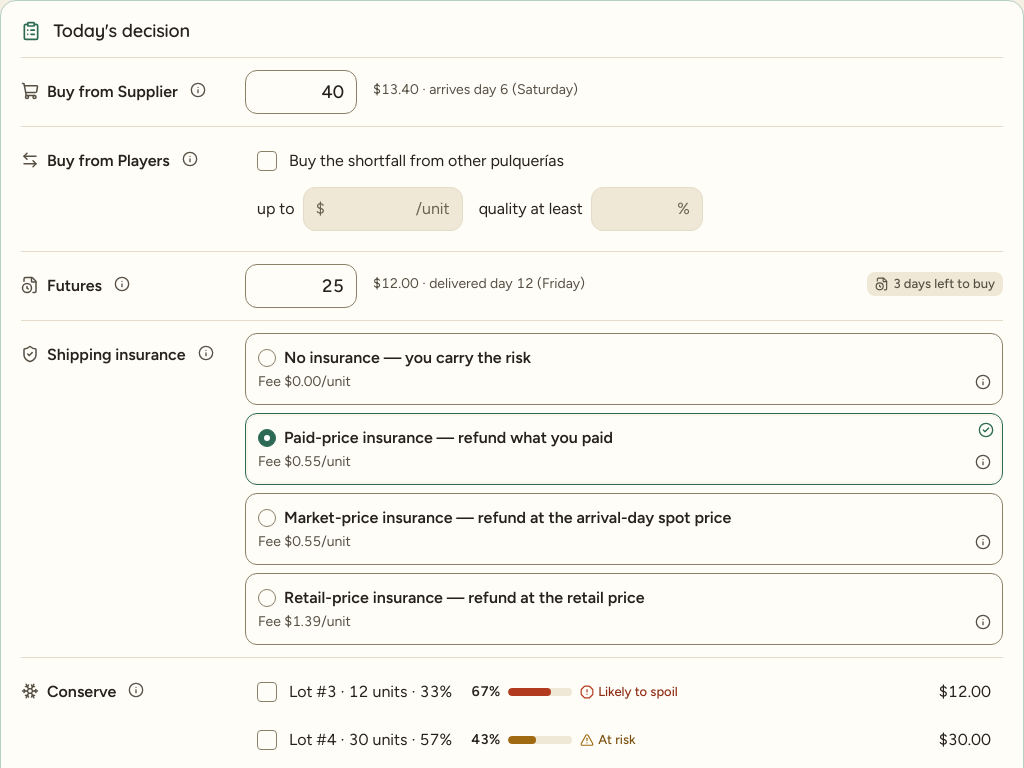
Scenario: tier options (acceptance criterion 7) › opening a tier tooltip does not select that tier
The width and height of the screenshot is (1024, 768).
Click the button named "About Retail-price insurance — refund at the retail price de". click: (983, 622)
box: [971,610,995,634]
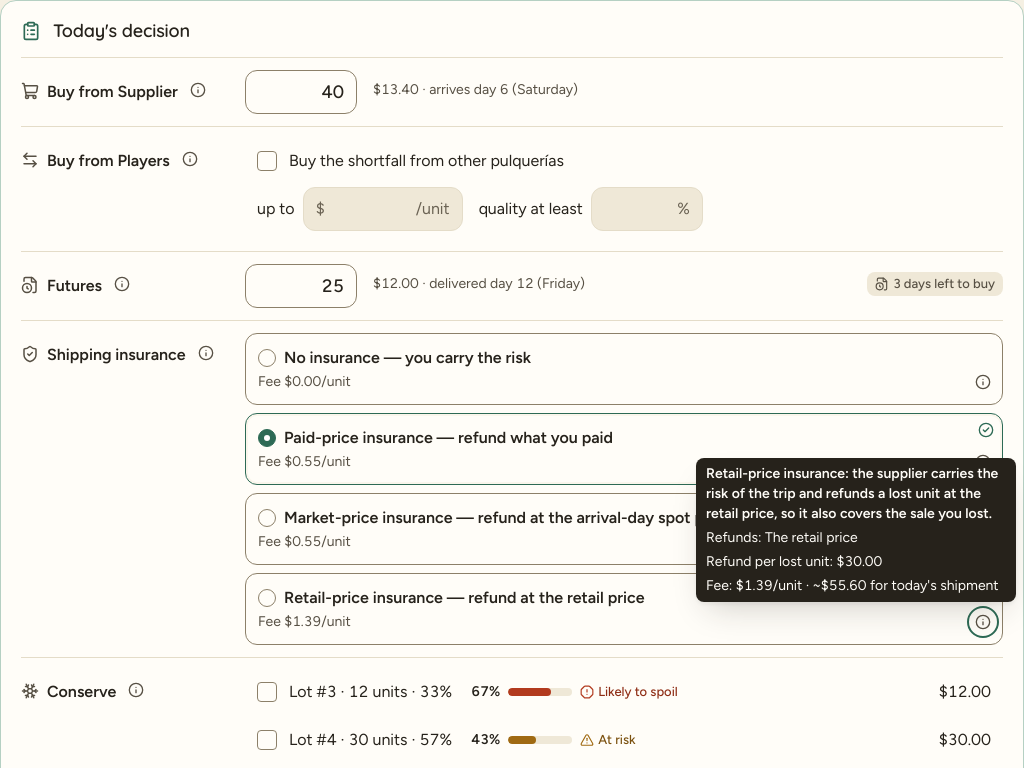
expect the radio button labelled "Retail-price insurance" is not checked: met, box [245,573,1003,645]
expect the tooltip is shown: met, box [696,458,1016,602]
